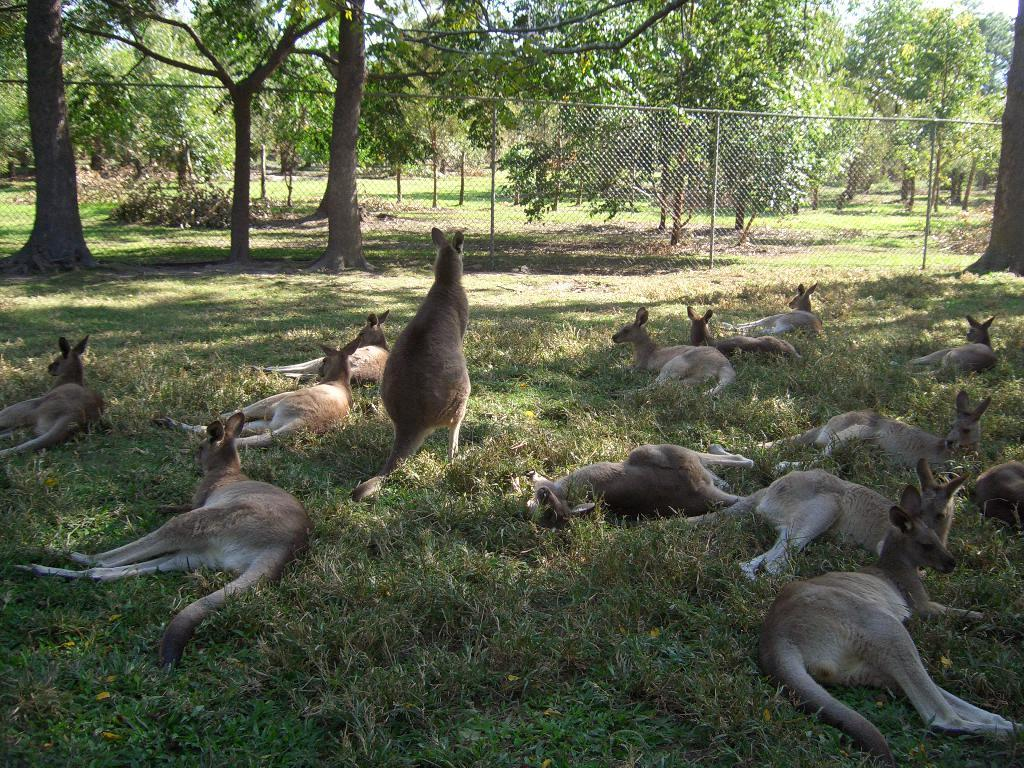kangaroo: (11, 416, 312, 668), (754, 486, 1012, 760), (714, 456, 994, 626), (354, 222, 464, 496), (158, 339, 358, 450), (744, 386, 990, 468), (500, 440, 745, 514), (0, 334, 102, 468), (608, 306, 740, 402), (254, 306, 394, 383), (682, 298, 810, 366), (904, 308, 997, 386), (733, 281, 823, 339), (962, 458, 1023, 530)
